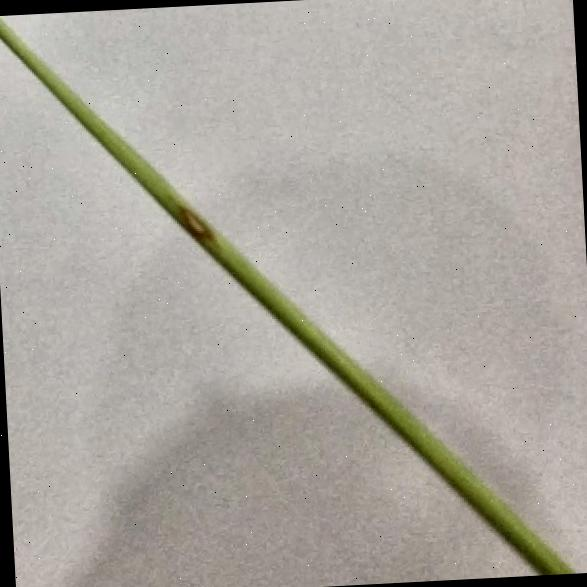Leaf_smut: (157, 192, 222, 254)
